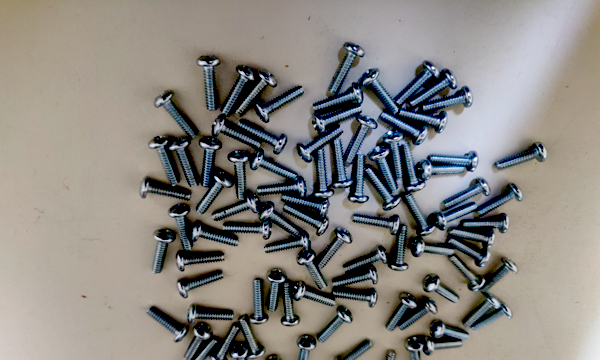shortscrew: (154, 90, 198, 140), (394, 61, 442, 106), (234, 68, 277, 117), (254, 84, 305, 123), (409, 68, 458, 108), (330, 42, 365, 95), (297, 124, 344, 163), (211, 115, 264, 149), (222, 65, 257, 116), (237, 120, 288, 155), (379, 111, 429, 146), (362, 68, 399, 115), (148, 135, 181, 187), (364, 167, 402, 211), (344, 115, 378, 164), (476, 183, 524, 217), (146, 307, 189, 344), (313, 103, 362, 135), (169, 136, 199, 188), (317, 227, 354, 269), (495, 142, 548, 171), (313, 83, 364, 113), (443, 178, 492, 209), (284, 204, 330, 237), (258, 201, 300, 237), (211, 192, 260, 222), (463, 292, 502, 329), (404, 193, 436, 237), (449, 254, 486, 292), (177, 271, 225, 300), (317, 306, 354, 343), (480, 258, 519, 293), (297, 247, 328, 291), (197, 55, 221, 111), (343, 245, 389, 274), (398, 298, 438, 331), (448, 236, 490, 267), (423, 87, 473, 113), (169, 204, 196, 252), (435, 201, 478, 231), (370, 147, 398, 193), (386, 293, 418, 333), (140, 176, 191, 201), (471, 303, 513, 333), (190, 224, 240, 249), (398, 110, 449, 134), (238, 317, 266, 360), (227, 151, 251, 200), (199, 137, 222, 188), (282, 195, 330, 219), (222, 218, 272, 241), (423, 274, 461, 304), (176, 250, 225, 273), (183, 323, 213, 360), (210, 325, 241, 360), (348, 155, 370, 204), (293, 281, 336, 306), (332, 138, 353, 189), (333, 265, 379, 288), (153, 228, 176, 274), (383, 130, 405, 178), (429, 151, 479, 172), (314, 148, 335, 198), (264, 232, 311, 254), (188, 304, 234, 326), (353, 214, 401, 235), (462, 213, 510, 234), (411, 236, 455, 258), (333, 288, 378, 309), (418, 160, 465, 180), (389, 225, 409, 271), (450, 228, 496, 248), (266, 269, 287, 312), (183, 336, 220, 360), (430, 319, 470, 341), (282, 282, 301, 327), (251, 279, 269, 326), (333, 340, 373, 360), (425, 336, 463, 357), (296, 335, 317, 360), (405, 336, 424, 360), (230, 344, 254, 360), (376, 350, 397, 360), (264, 354, 289, 360)
